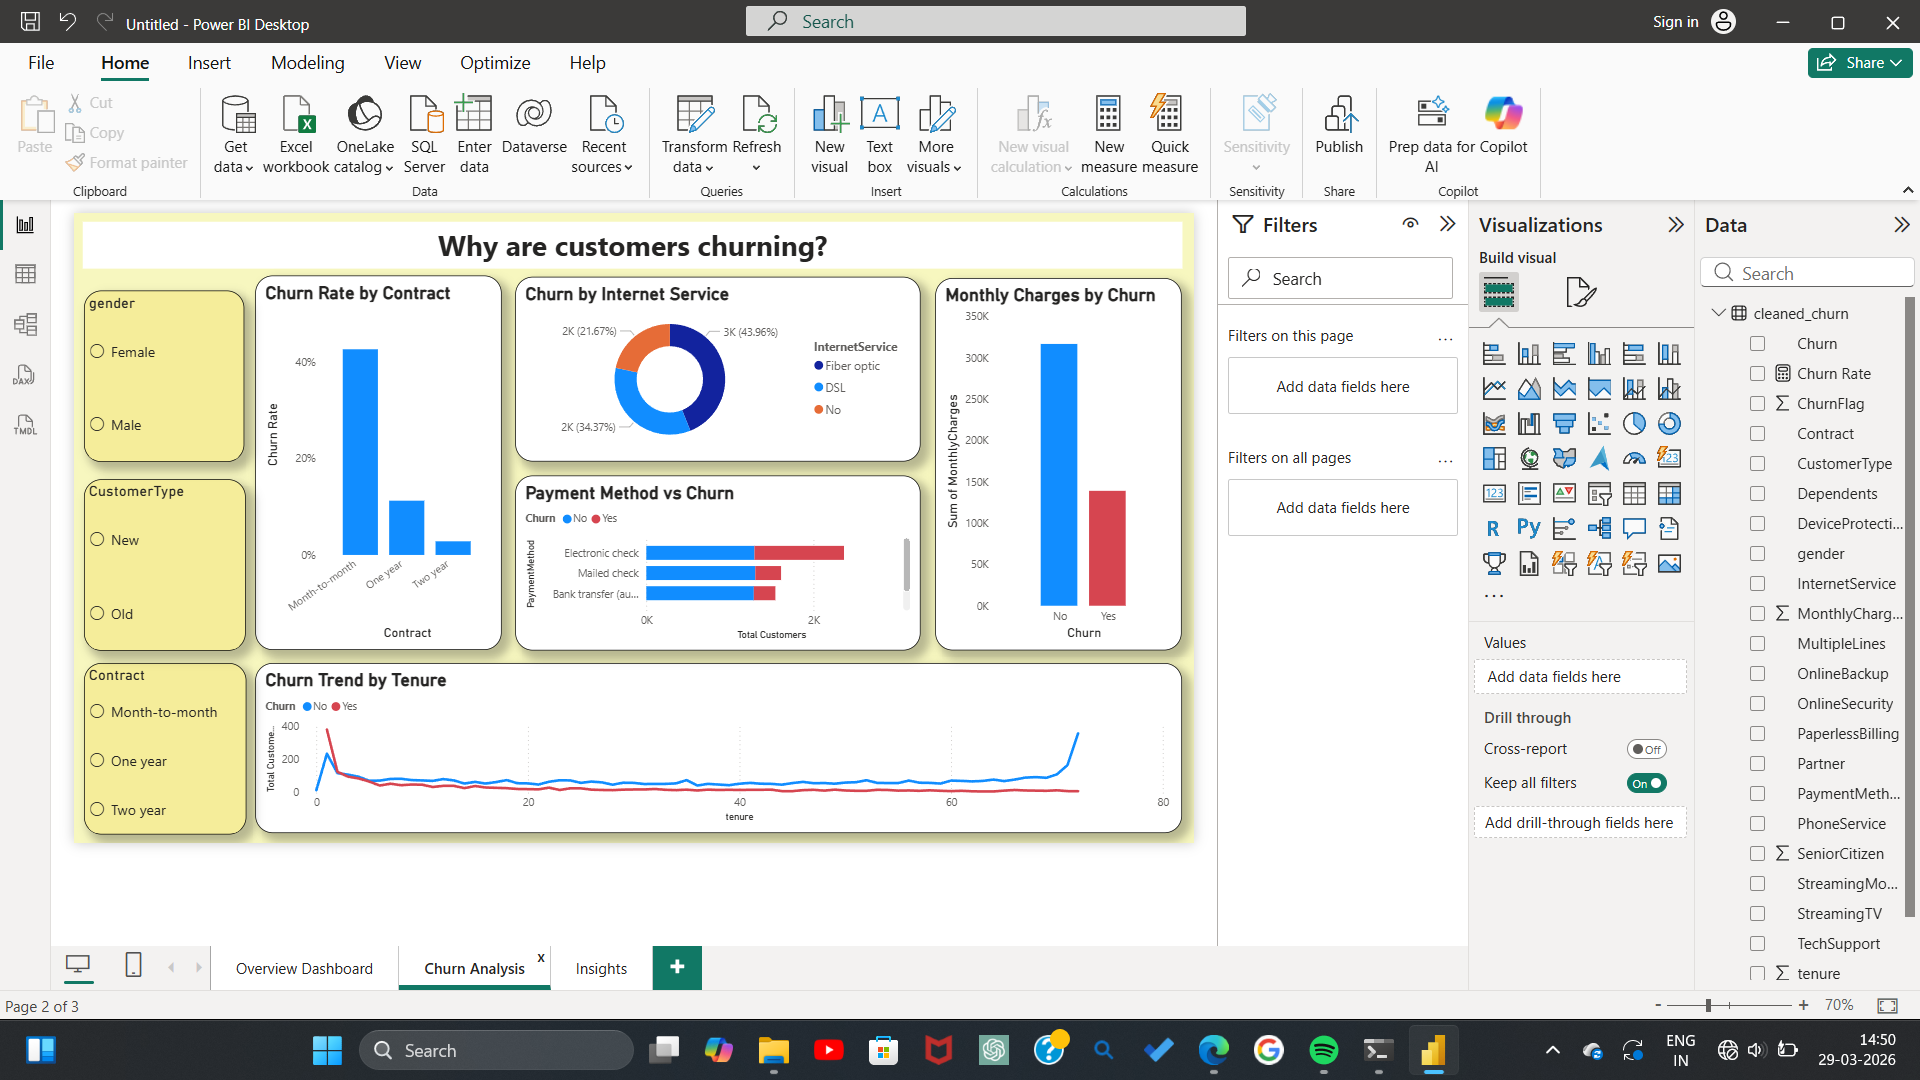

Layout of this report page (visuals, bound fields, positions):
{"tool":"powerbi","page":{"name":"Churn Analysis","canvas":[1280,720],"ordinal":1},"visuals":[{"type":"textbox","box":[9.6,9.6,1257,53.5],"z":0},{"type":"clusteredColumnChart","fields":{"Category":["cleaned_churn.Contract"],"Y":["cleaned_churn.Churn Rate"]},"box":[207,71.8,281.7,428.2],"z":1000},{"type":"donutChart","title":"Churn by Internet Service","fields":{"Category":["cleaned_churn.InternetService"],"Y":["cleaned_churn.Total Customers"]},"box":[504.2,73.2,463.4,211.3],"z":2000},{"type":"lineChart","title":"Churn Trend by Tenure","fields":{"Category":["cleaned_churn.tenure"],"Y":["cleaned_churn.Total Customers"],"Series":["cleaned_churn.Churn"]},"box":[207,514.1,1059.2,194.4],"z":3000},{"type":"barChart","title":"Payment Method vs Churn","fields":{"Category":["cleaned_churn.PaymentMethod"],"Y":["cleaned_churn.Total Customers"],"Series":["cleaned_churn.Churn"]},"box":[504.2,300,463.4,200],"z":4000},{"type":"clusteredColumnChart","title":"Monthly Charges by Churn","fields":{"Category":["cleaned_churn.Churn"],"Y":["Sum(cleaned_churn.MonthlyCharges)"]},"box":[984.5,74.6,281.7,425.4],"z":5000},{"type":"listSlicer","fields":{"Values":["cleaned_churn.Contract"]},"box":[11.3,514.1,185.9,195.8],"z":6000},{"type":"listSlicer","fields":{"Values":["cleaned_churn.CustomerType"]},"box":[11.3,304.2,184.5,195.8],"z":7000},{"type":"listSlicer","fields":{"Values":["cleaned_churn.gender"]},"box":[11.3,88.7,183,195.8],"z":8000}]}

Visuals, with their boxes on the page's 1280x720 design canvas (x1, y1, x2, y2). These are canvas units, not pixel positions in the 1920x1080 screenshot, which may show the page scaled, cropped or inside an application window:
textbox: Rect(10, 10, 1267, 63)
clusteredColumnChart - cleaned_churn.Contract x cleaned_churn.Churn Rate: Rect(207, 72, 489, 500)
"Churn by Internet Service" donutChart: Rect(504, 73, 968, 284)
"Churn Trend by Tenure" lineChart: Rect(207, 514, 1266, 708)
"Payment Method vs Churn" barChart: Rect(504, 300, 968, 500)
"Monthly Charges by Churn" clusteredColumnChart: Rect(984, 75, 1266, 500)
listSlicer - cleaned_churn.Contract: Rect(11, 514, 197, 710)
listSlicer - cleaned_churn.CustomerType: Rect(11, 304, 196, 500)
listSlicer - cleaned_churn.gender: Rect(11, 89, 194, 284)
